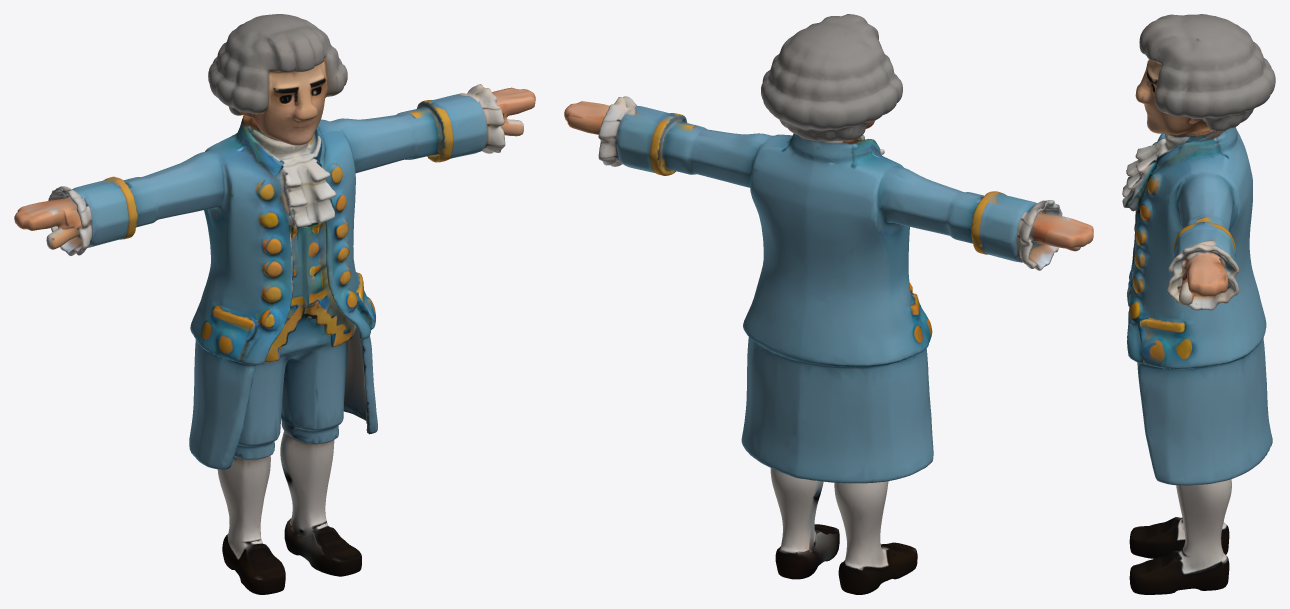
File: louis15.glb
3 renders of one model, left to right at view 1: azimuth 30°, elevation 25°; view 2: azimuth 150°, elevation 25°; view 3: azimuth 270°, elevation 25°, orthographic.
Parts seen in each view (by area): view 1: texture_pbr_v128; view 2: texture_pbr_v128; view 3: texture_pbr_v128.
Part boxes in pixels (x1,y1,x2,y2): texture_pbr_v128: [14, 14, 535, 594]; texture_pbr_v128: [564, 14, 1093, 594]; texture_pbr_v128: [1122, 14, 1275, 594].
Size of the model in its own units: 1.08 by 1.08 by 0.273.
Materials: 1 (1 with a texture image).
